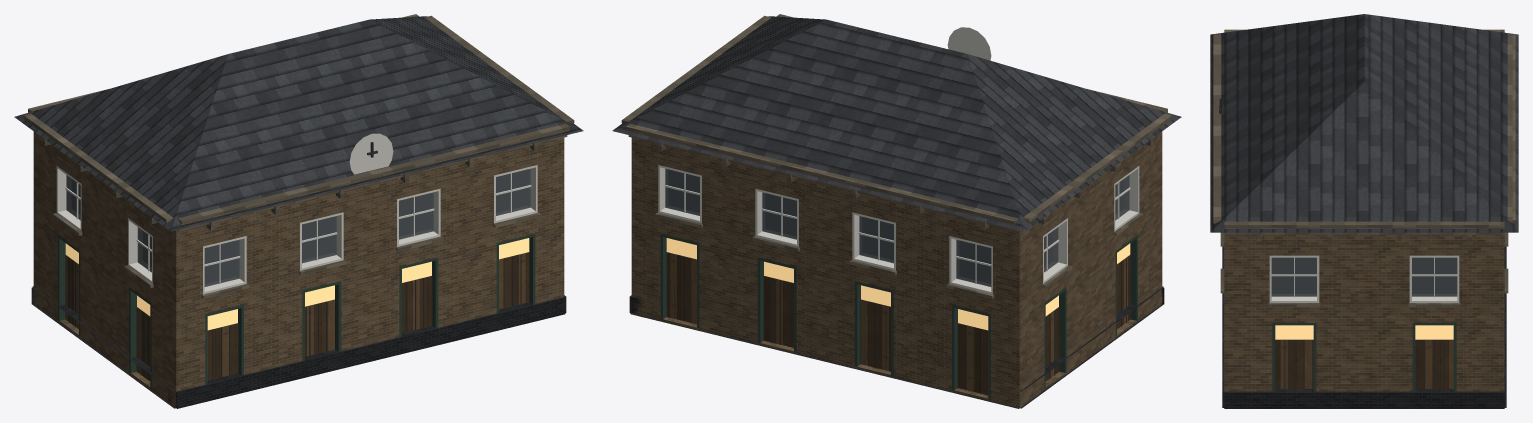
Rendered from B_time_office.glb.
3 views of the same model, side by side, from view 1: azimuth 30°, elevation 25°; view 2: azimuth 150°, elevation 25°; view 3: azimuth 270°, elevation 25° (orthographic).
Visible parts, largest first — view 1: B_time_office; view 2: B_time_office; view 3: B_time_office.
Part boxes in pixels (bbox=[...]): B_time_office: bbox=[14, 14, 583, 408]; B_time_office: bbox=[612, 14, 1181, 408]; B_time_office: bbox=[1210, 14, 1518, 408].
Bounding box in the file's own units: 11.7 × 7.36 × 7.7.
Materials: 11 (5 with a texture image).
